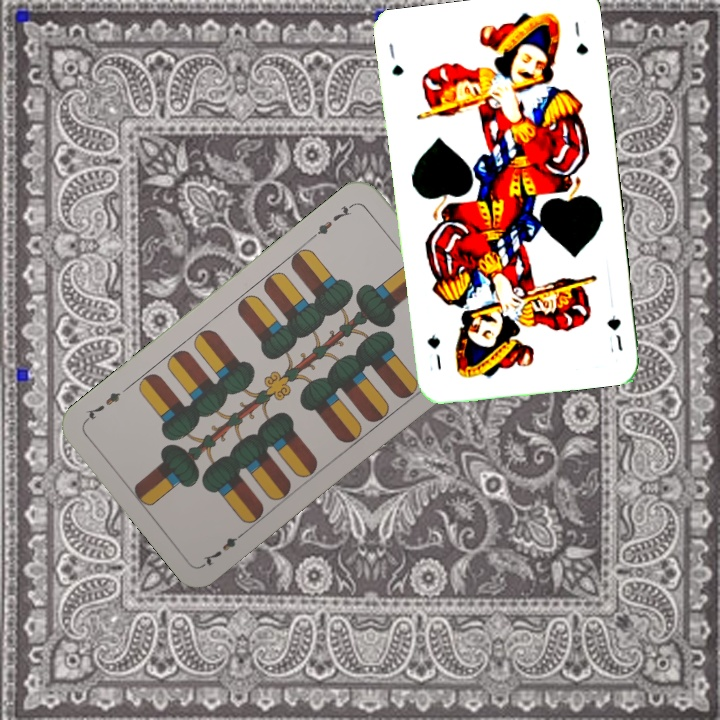E7: (198, 527, 249, 569), (307, 199, 357, 241)
GU: (603, 311, 626, 355), (384, 39, 406, 79)
